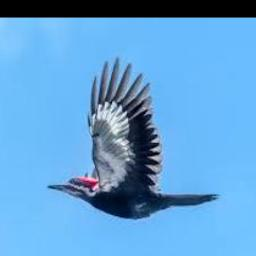Woodpecker: (46, 56, 221, 219)
